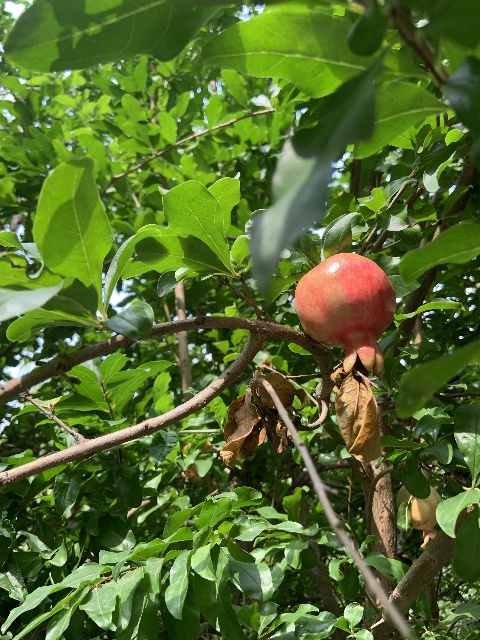mid-growth: (395, 483, 443, 548)
ripe: (294, 252, 396, 378)
